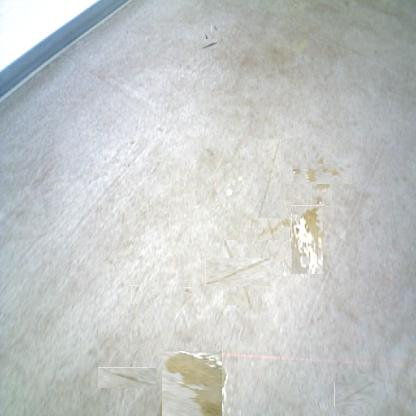liquid: (159, 353, 224, 416), (214, 249, 261, 296), (291, 205, 323, 274), (302, 154, 342, 194), (258, 218, 290, 240)
mark: (257, 138, 281, 218), (108, 358, 147, 397), (338, 378, 371, 411), (200, 36, 215, 52), (131, 285, 140, 304), (211, 24, 218, 32), (128, 140, 135, 148), (185, 287, 192, 295)
